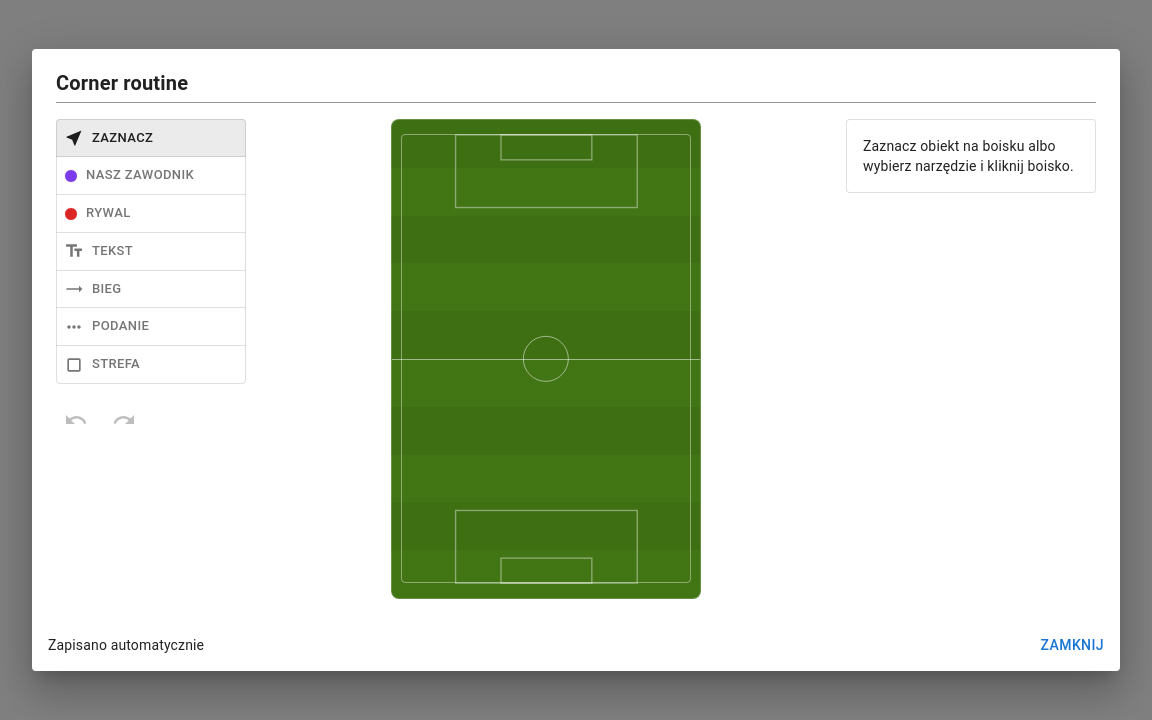
it: placing objects › draws a zone by dragging in any direction
The width and height of the screenshot is (1152, 720).
Click the button "Strefa": (151, 364) [56,345,246,384]
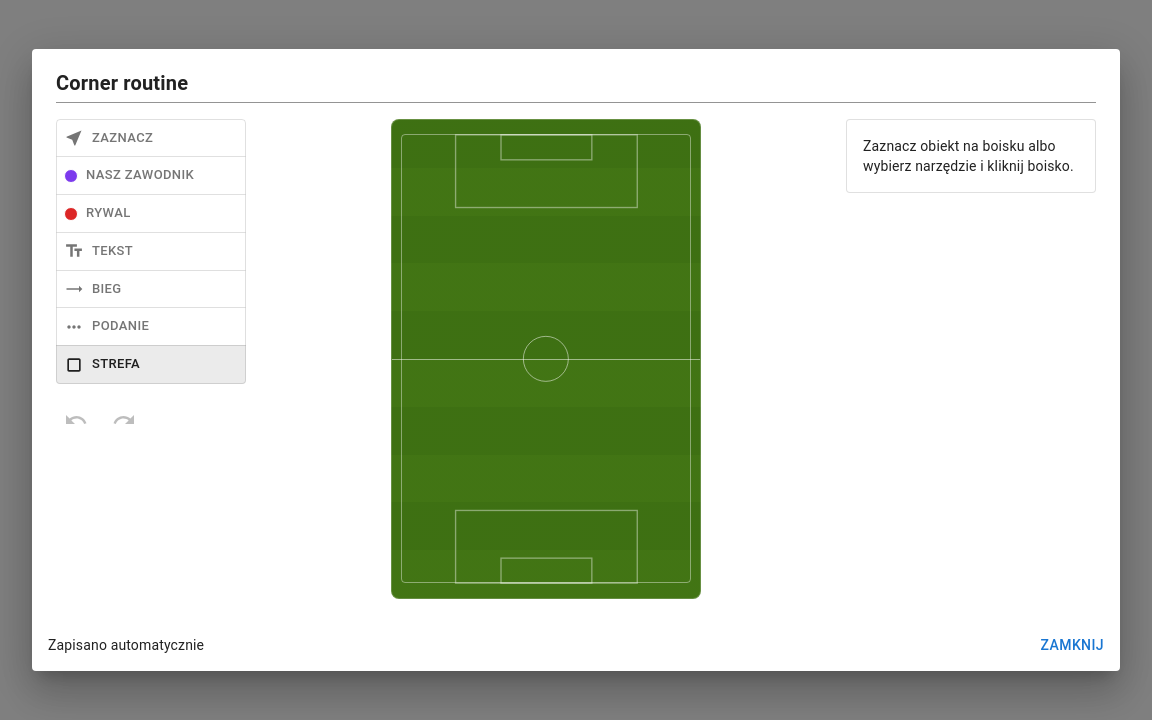
Press the mouse on the 1st icon: (546, 359) [392,120,700,598]
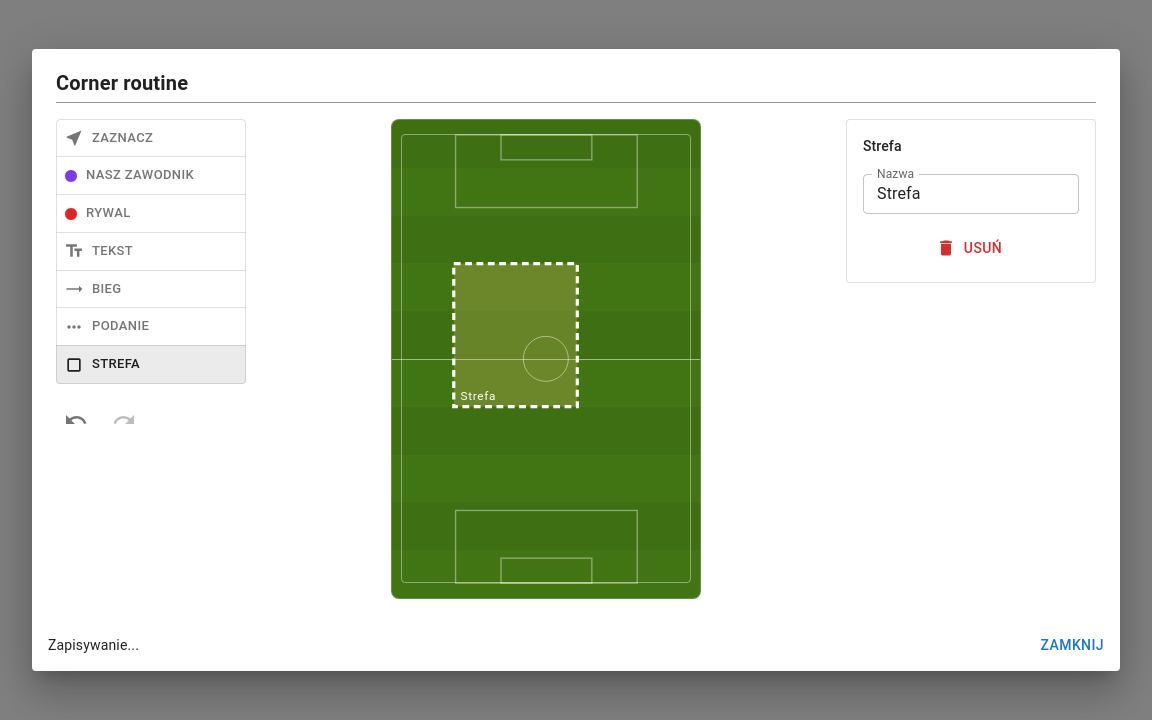
Expected: the icon "Strefa" is shown, [392,120,700,598]
